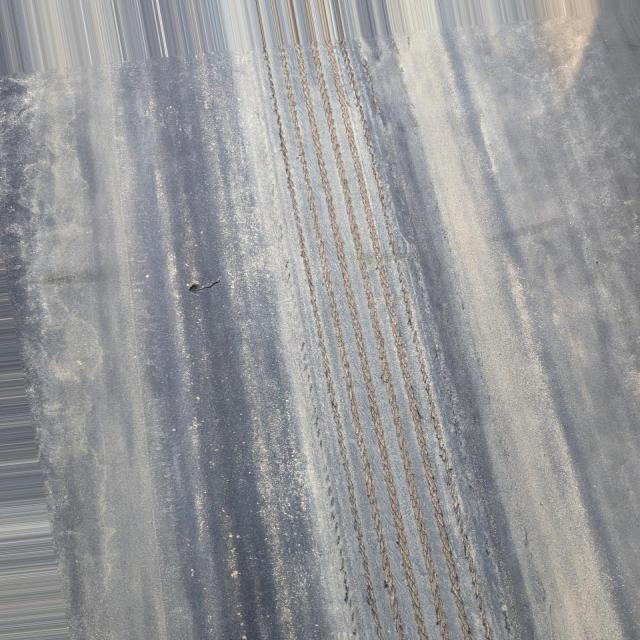Wear: (255, 40, 518, 640)
